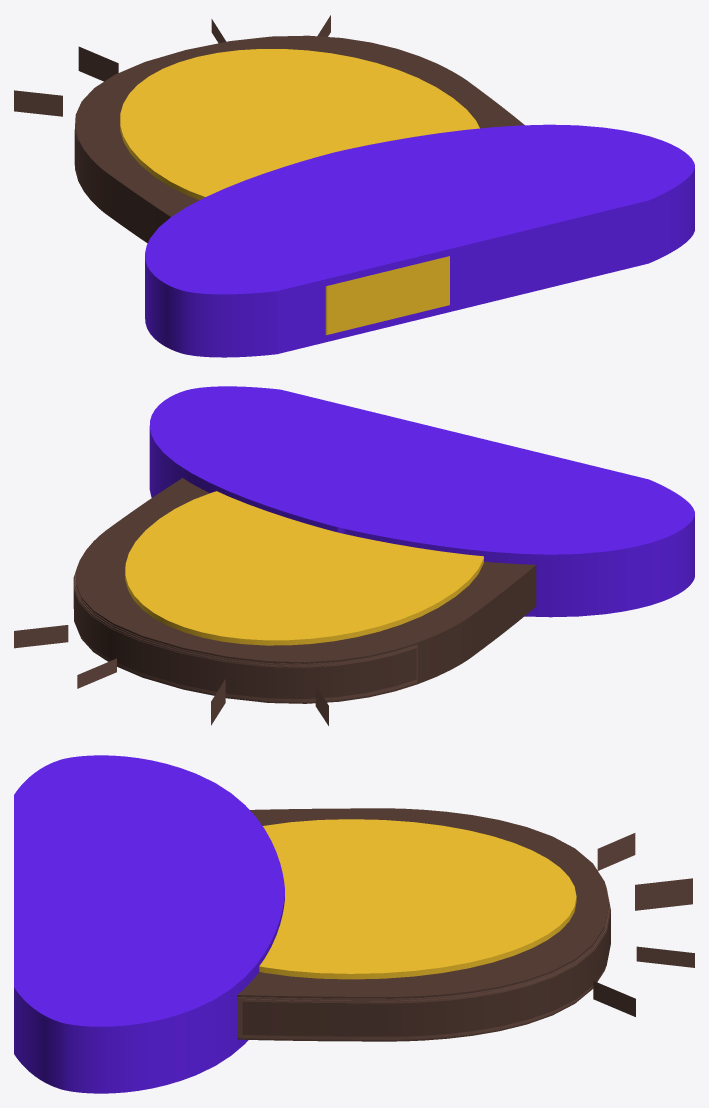
The model's file is emoji_u1f647_200d_2640.glb.
3 renders of one model, top to bottom at view 1: azimuth 30°, elevation 25°; view 2: azimuth 150°, elevation 25°; view 3: azimuth 270°, elevation 25°, orthographic. The views are drawn at different scales.
Visible parts, largest first — view 1: emoji_u1f647_200d_2640; view 2: emoji_u1f647_200d_2640; view 3: emoji_u1f647_200d_2640.
Boxes of the visible parts, x1,y1,x2,y2 form: emoji_u1f647_200d_2640: (14, 15, 694, 357); emoji_u1f647_200d_2640: (14, 386, 694, 725); emoji_u1f647_200d_2640: (14, 755, 694, 1093).
Bounding box in the file's own units: 0.0313 × 0.0036 × 0.0332.
